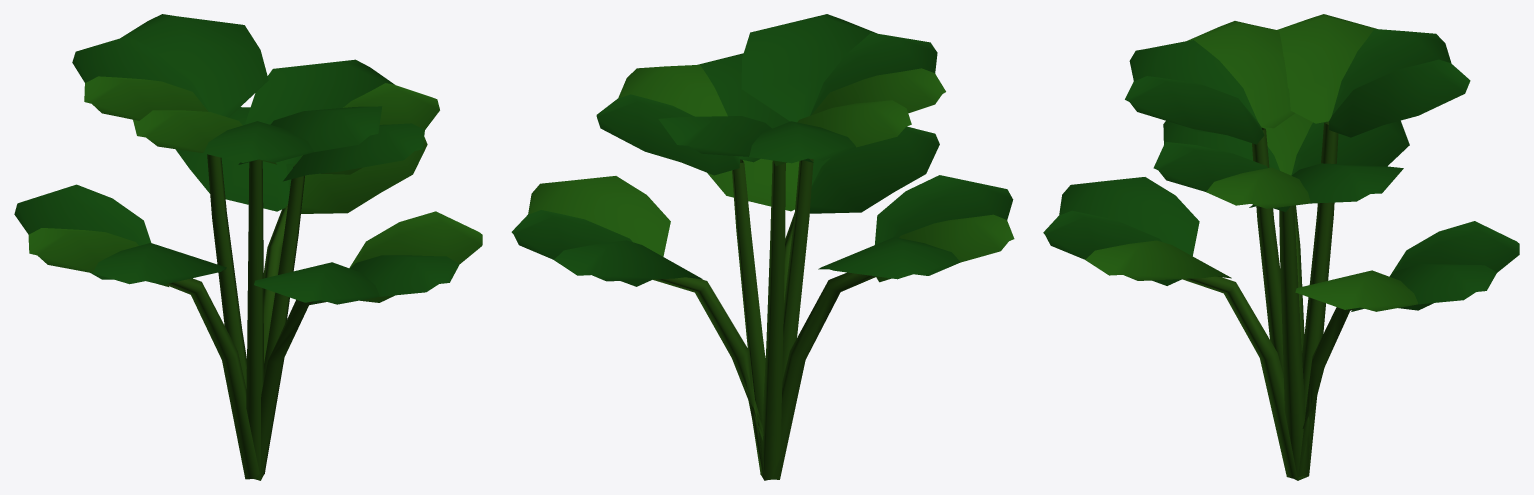
The model's file is BushBerries_2.obj.
3 views of the same model, side by side, from view 1: azimuth 30°, elevation 25°; view 2: azimuth 150°, elevation 25°; view 3: azimuth 270°, elevation 25° (orthographic). The views are drawn at different scales.
Visible parts, largest first — view 1: BushBerries_2; view 2: BushBerries_2; view 3: BushBerries_2.
Boxes of the visible parts, left/top/right/bottom form: BushBerries_2: left=14, top=14, right=482, bottom=480; BushBerries_2: left=511, top=14, right=1014, bottom=480; BushBerries_2: left=1043, top=14, right=1519, bottom=480.
Size of the model in its own units: 0.2585 by 0.2379 by 0.2537.
